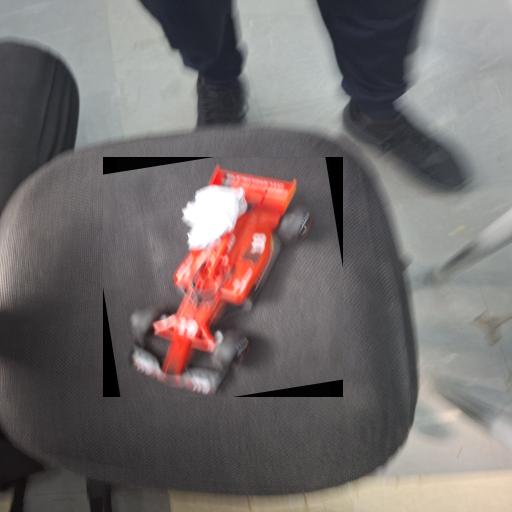carro: (116, 158, 330, 397)
